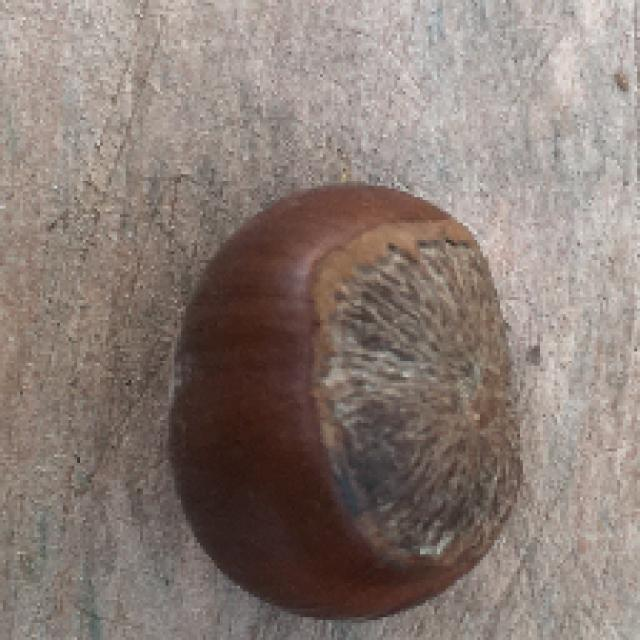qualityHazelnut: (165, 183, 528, 633)
